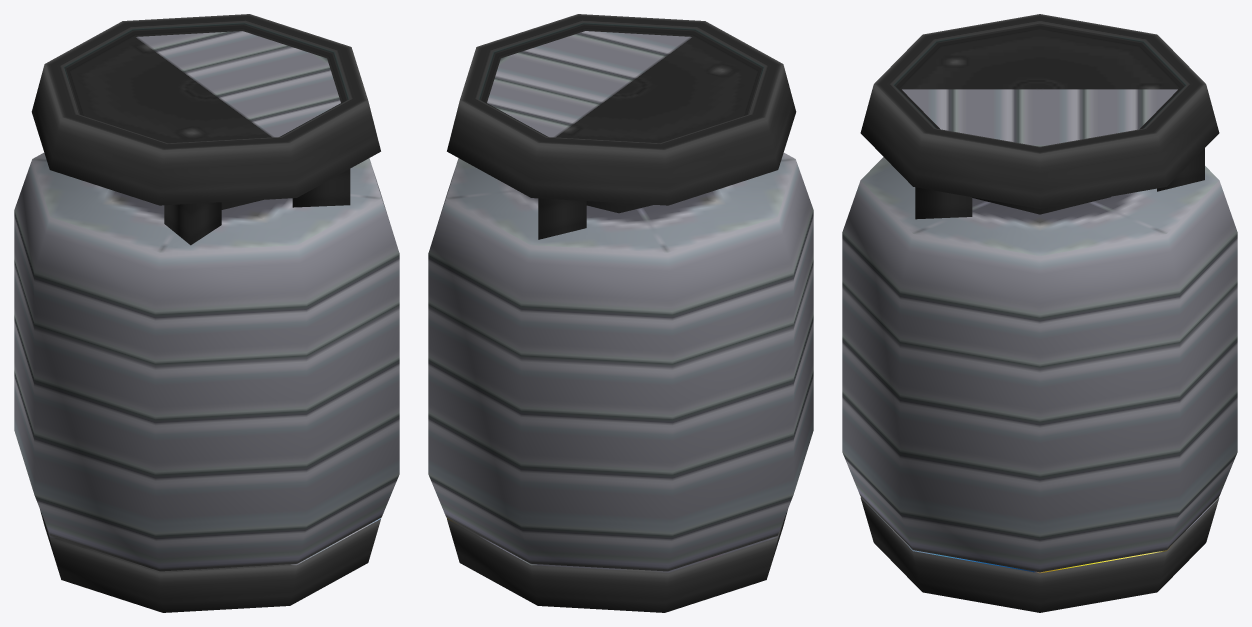
File: int_oth_tenbillion.dae
3 renders of one model, left to right at view 1: azimuth 30°, elevation 25°; view 2: azimuth 150°, elevation 25°; view 3: azimuth 270°, elevation 25°, orthographic.
Visible parts, largest first — view 1: int_oth_tenbillion; view 2: int_oth_tenbillion; view 3: int_oth_tenbillion.
Boxes of the visible parts, box(x1,y1,x2,y2) form: int_oth_tenbillion: box(14, 14, 399, 612); int_oth_tenbillion: box(428, 14, 813, 612); int_oth_tenbillion: box(842, 14, 1237, 612).
Bounding box in the file's own units: 12.2 × 15.6 × 12.2.
Materials: 2 (2 with a texture image).
